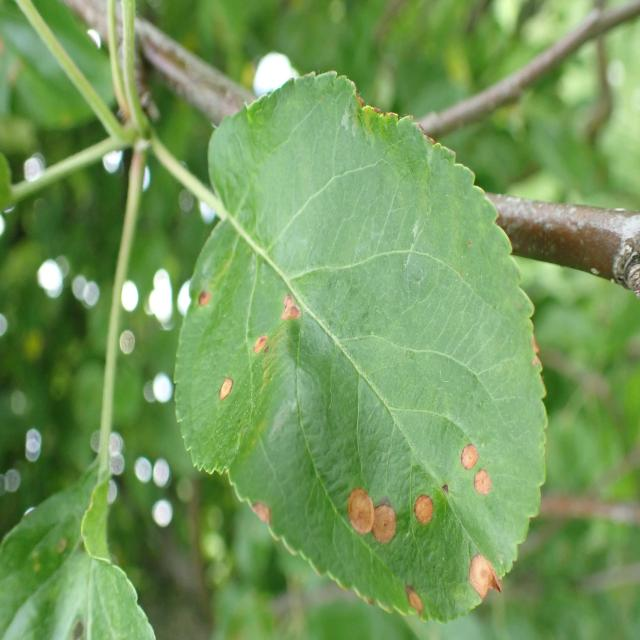Black Rot: (458, 539, 508, 640), (371, 484, 404, 561), (245, 479, 281, 541), (397, 578, 435, 634), (341, 482, 374, 544), (408, 476, 442, 536), (190, 272, 220, 335), (274, 288, 311, 336), (469, 460, 497, 520), (459, 411, 480, 477), (242, 333, 280, 360), (216, 376, 241, 416)
